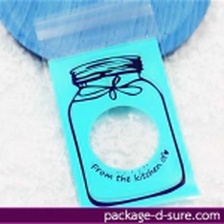snack: (27, 0, 209, 208)
